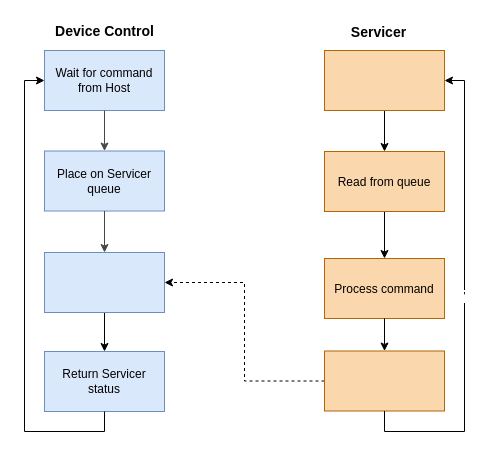
The diagram is 490 pixels wide and 457 high, and some of its shapes have lost their labels. Here are the shapes that lost their labels. From the top down, the box of each, then its label:
(324, 50, 444, 110): Wait for command from Device Control
(44, 252, 164, 312): Wait on Gateway queue
(324, 350, 444, 411): Write status to Gateway queue
